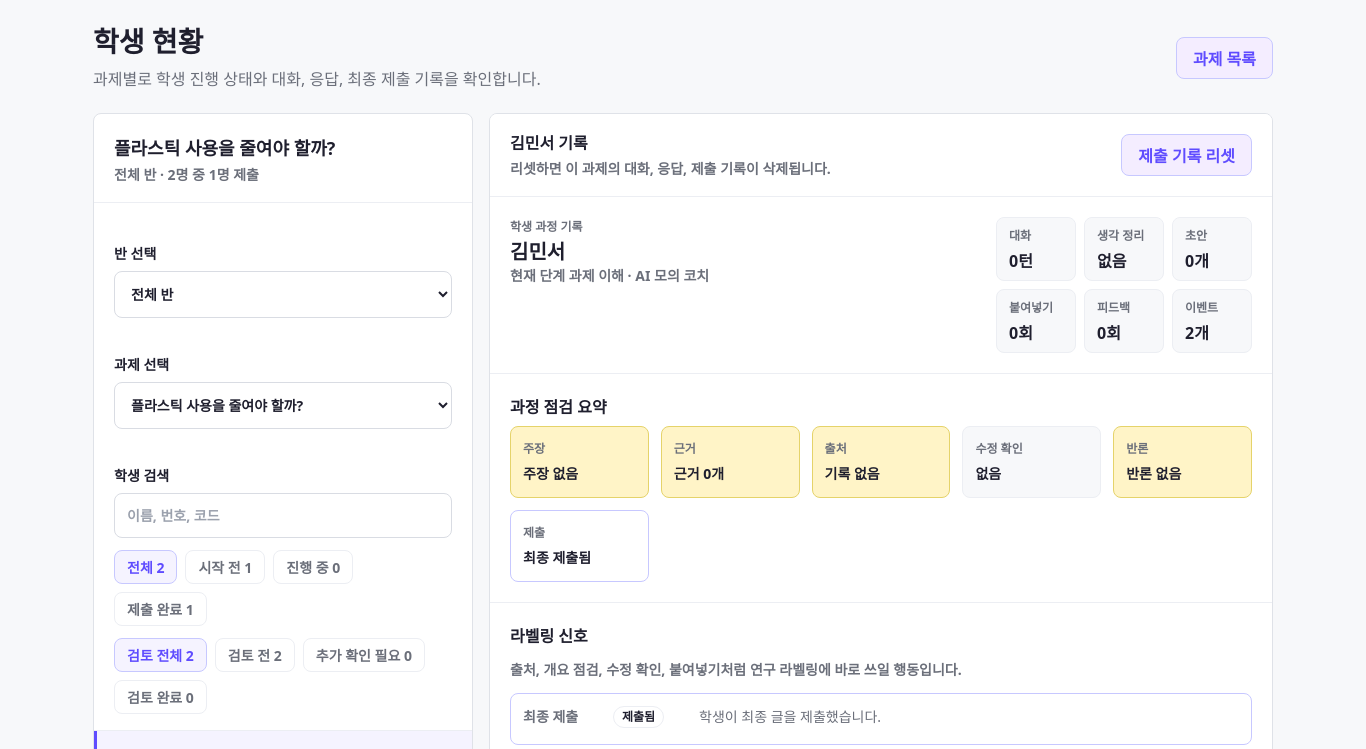
Scenario: TeacherReview › asks before resetting a submitted student session
The image size is (1366, 749).
Click the button "제출 기록 리셋" at (1187, 155), box [1121, 134, 1252, 176]
(page scrolled)
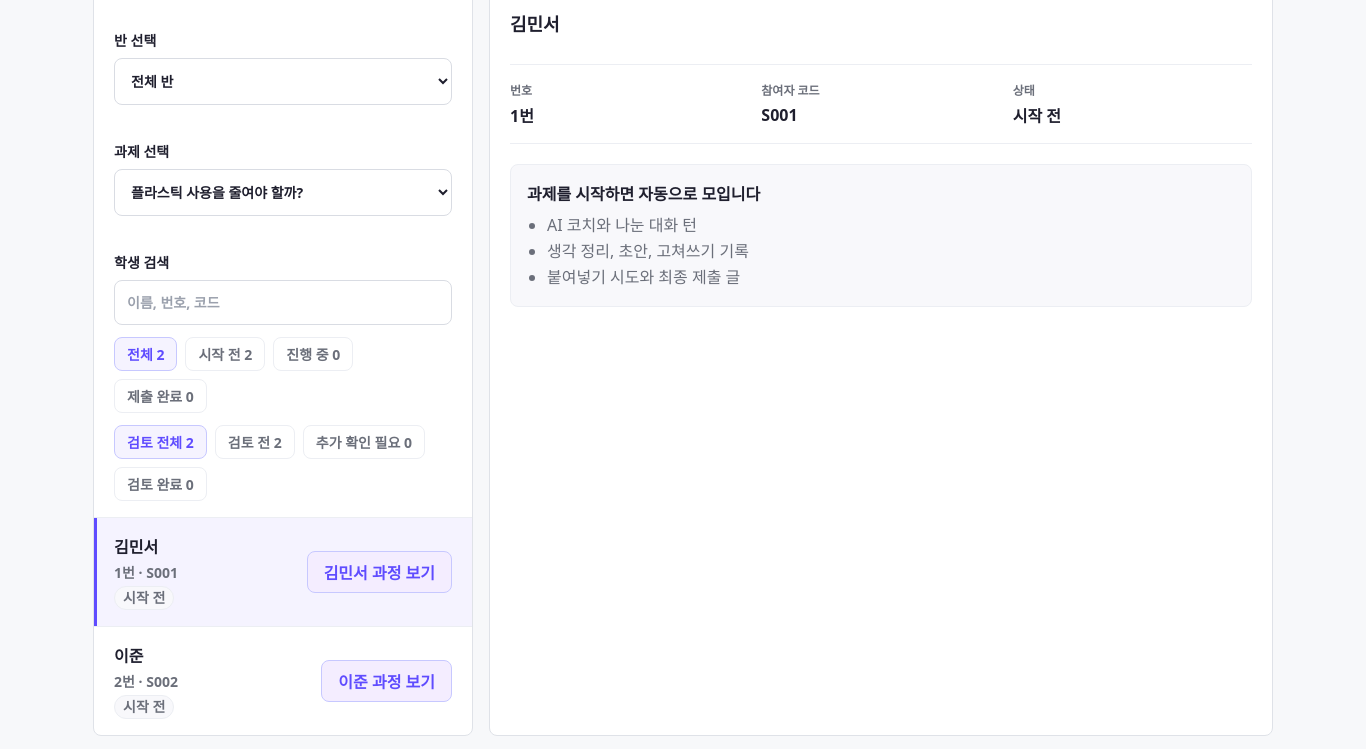
Expected: the heading "과제를 시작하면 자동으로 모입니다" is shown, [527, 183, 760, 205]
Expected: the 2nd text "시작 전" is shown, [114, 586, 174, 610]
